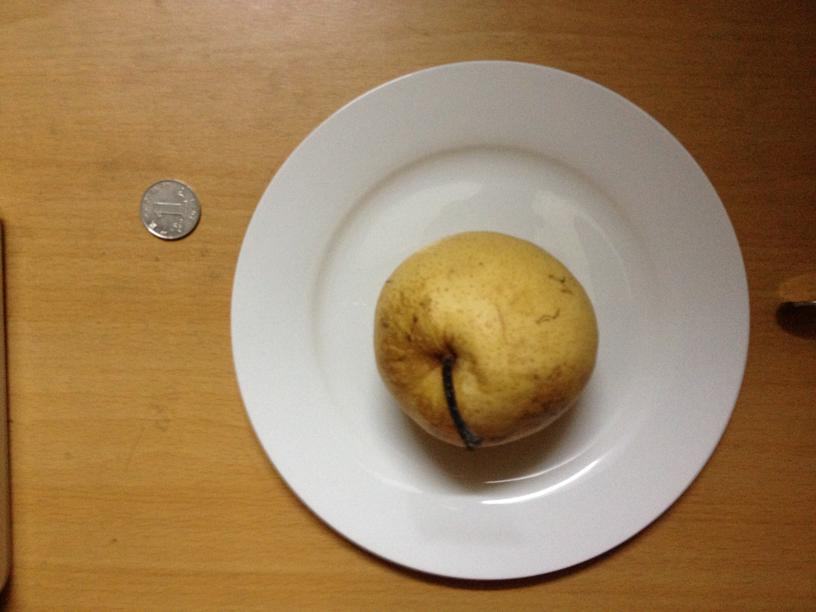coin: (137, 178, 203, 240)
pear: (371, 226, 596, 446)
